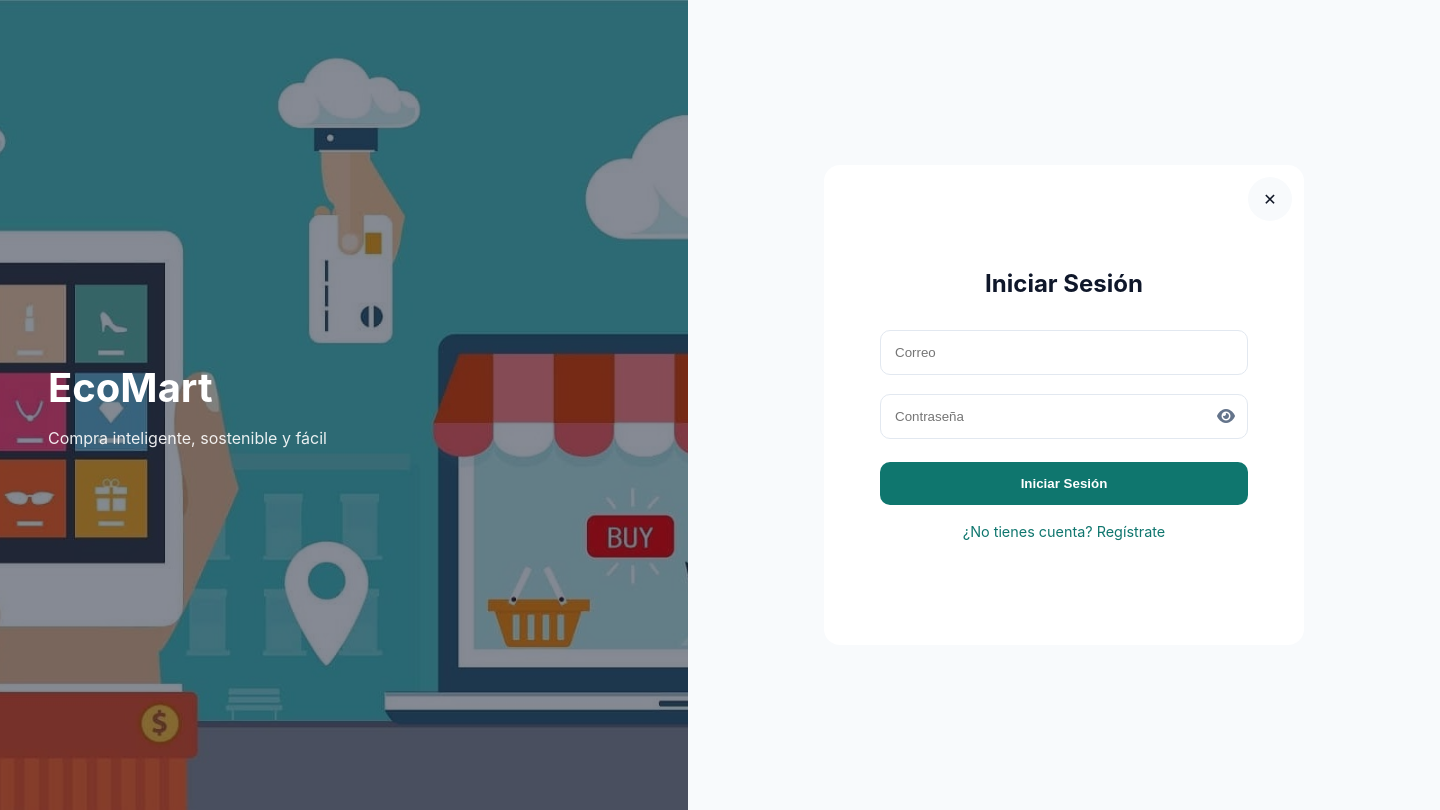
Test: Login Page › Negative Testing - Errores en login › muestra error genérico cuando login lanza error inesperado
In the field with placeholder "Correo": (1064, 352) [880,330,1248,375], type "juan@mail.com"
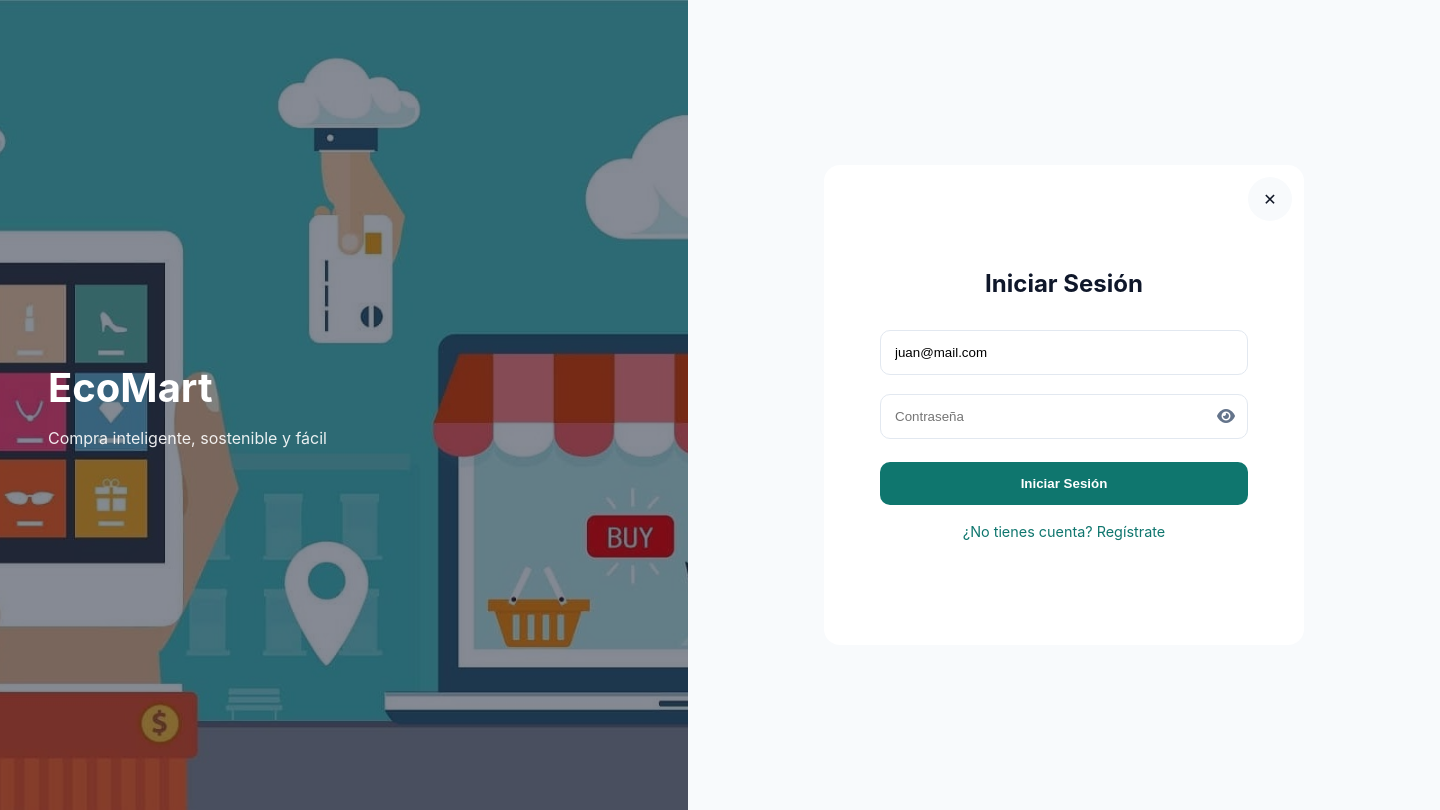
In the password field with placeholder "Contraseña": (1064, 417) [880,394,1248,439], type "password123"
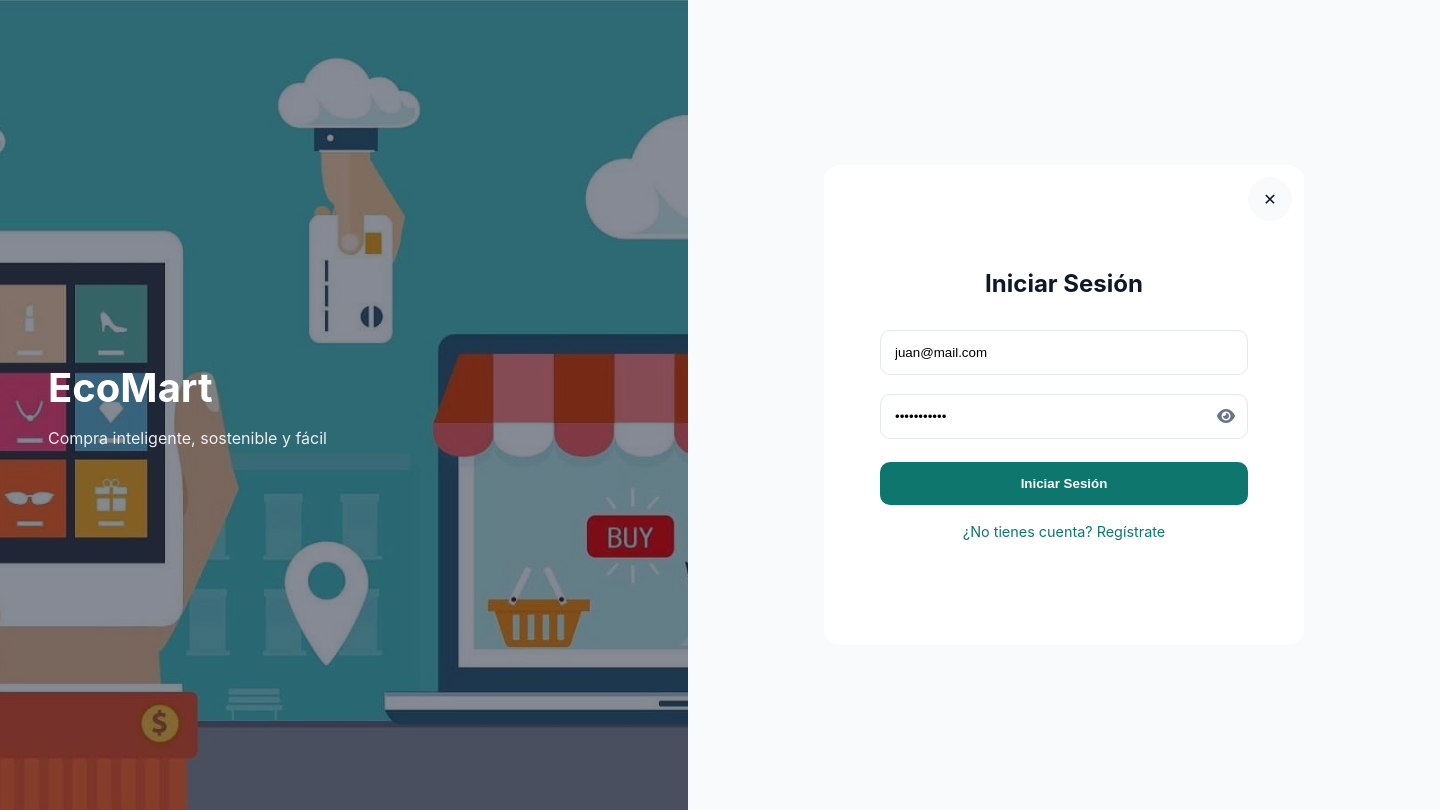
Click the button "Iniciar Sesión": (1064, 484) [880,462,1248,505]
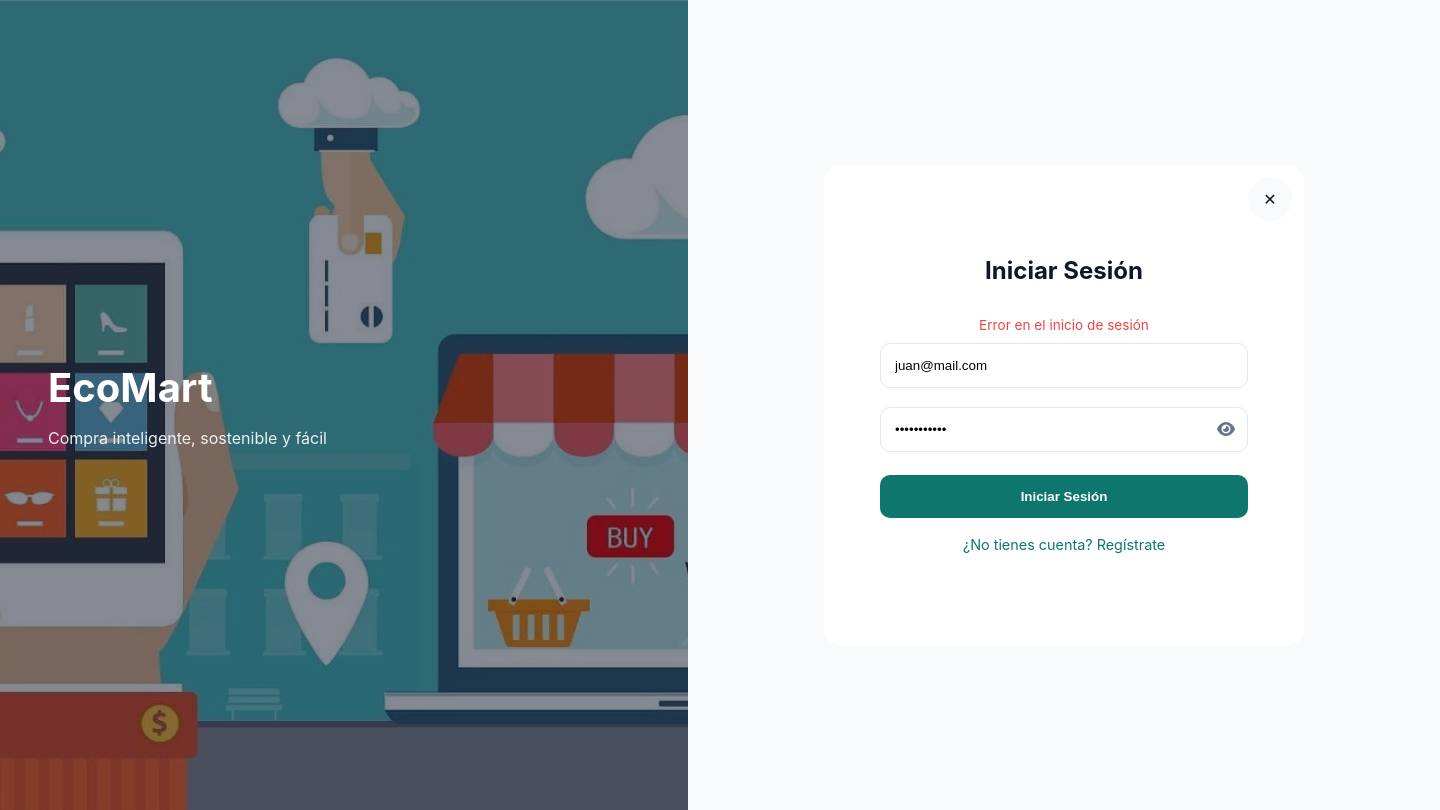
Check: the text "Error en el inicio de sesión" is shown, box [979,317,1149,333]
